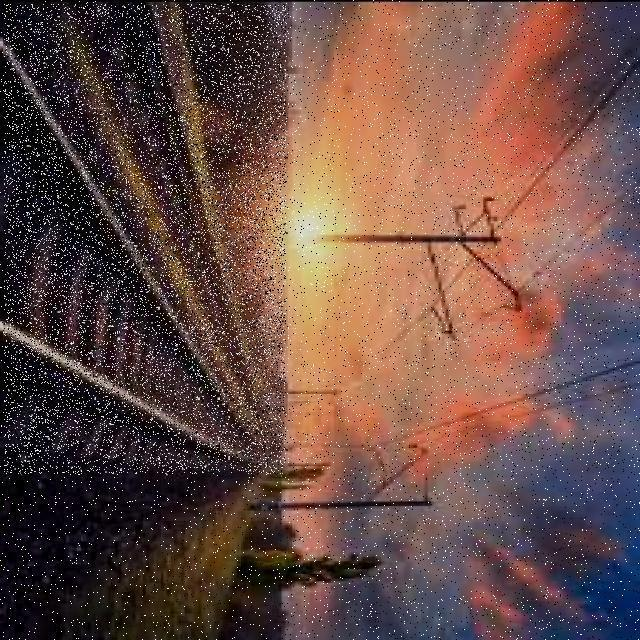rail: (6, 5, 287, 475)
